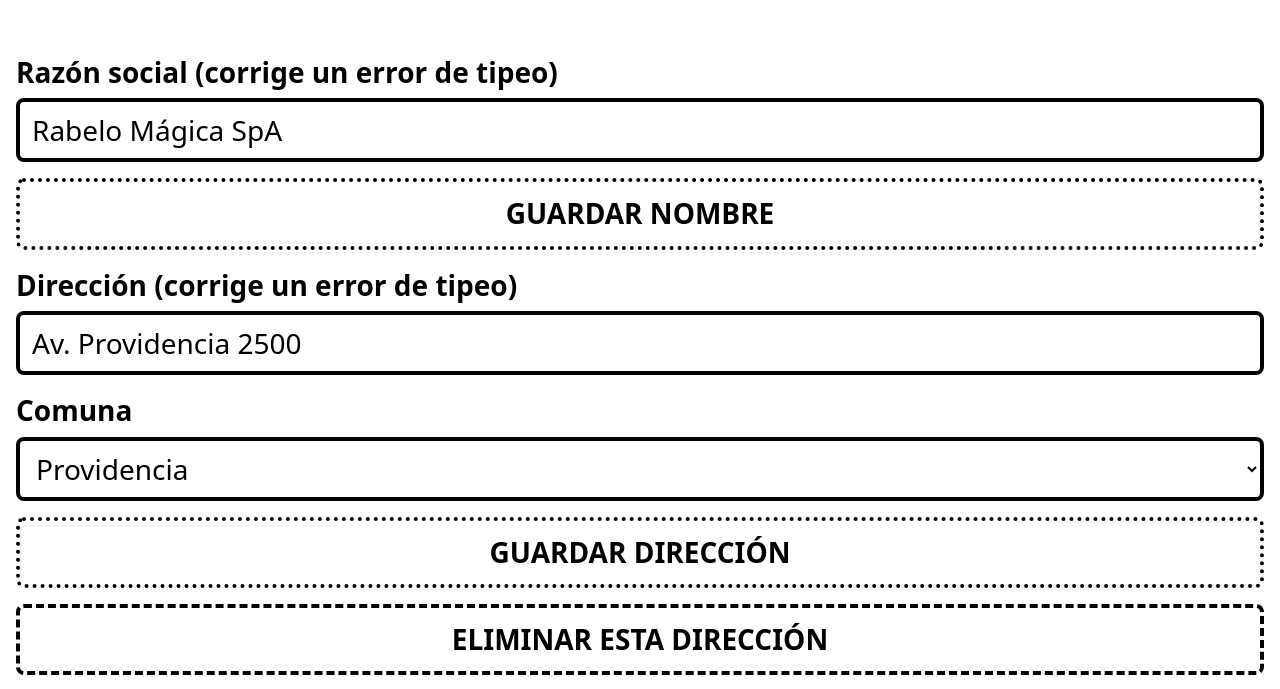
Test: detalle del local › chofer con permiso de editor › puede corregir la dirección y la comuna de la ficha
(page scrolled)
Expected: the button "GUARDAR DIRECCIÓN" is disabled, [16,517,1264,588]
Replace the text in the field labelled "Dirección (corrige un error de tipeo)" with "Av. Providencia 2550" at (640, 343), box [16,311,1264,375]
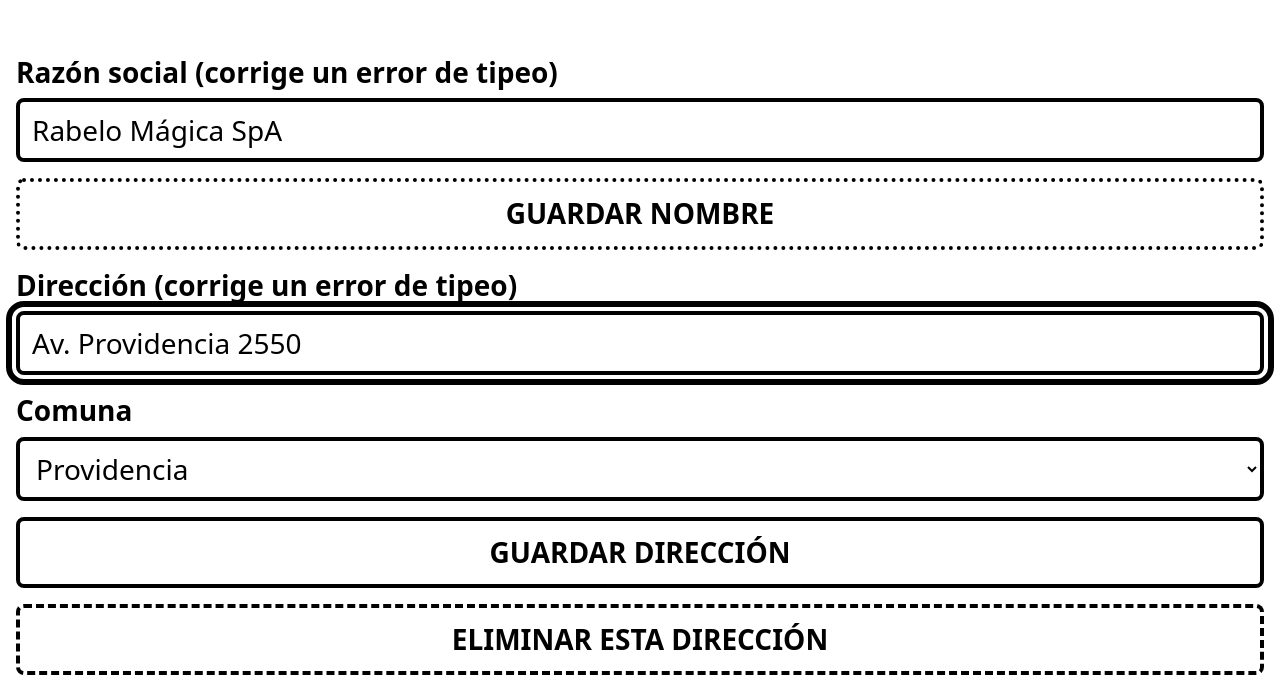
Select "Ñuñoa" in the dropdown labelled "Comuna" at (640, 469), box [16,437,1264,501]
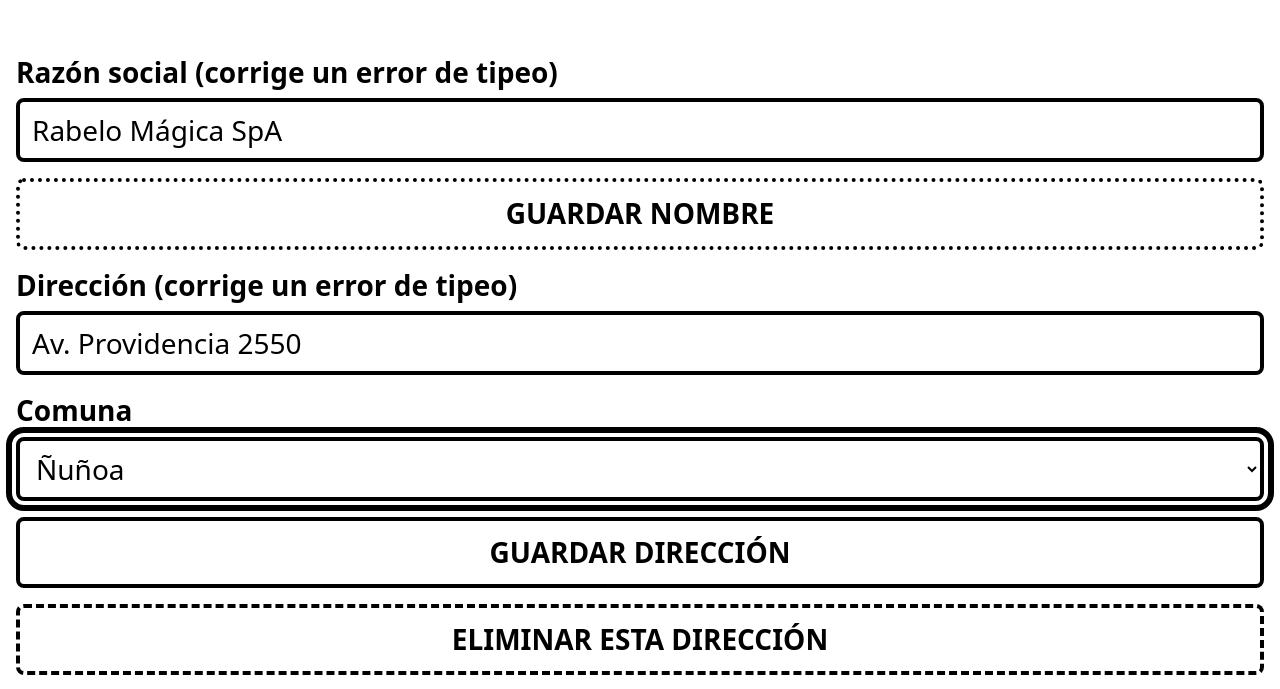
Click the button "GUARDAR DIRECCIÓN" at (640, 552), box [16,517,1264,588]
(page scrolled)
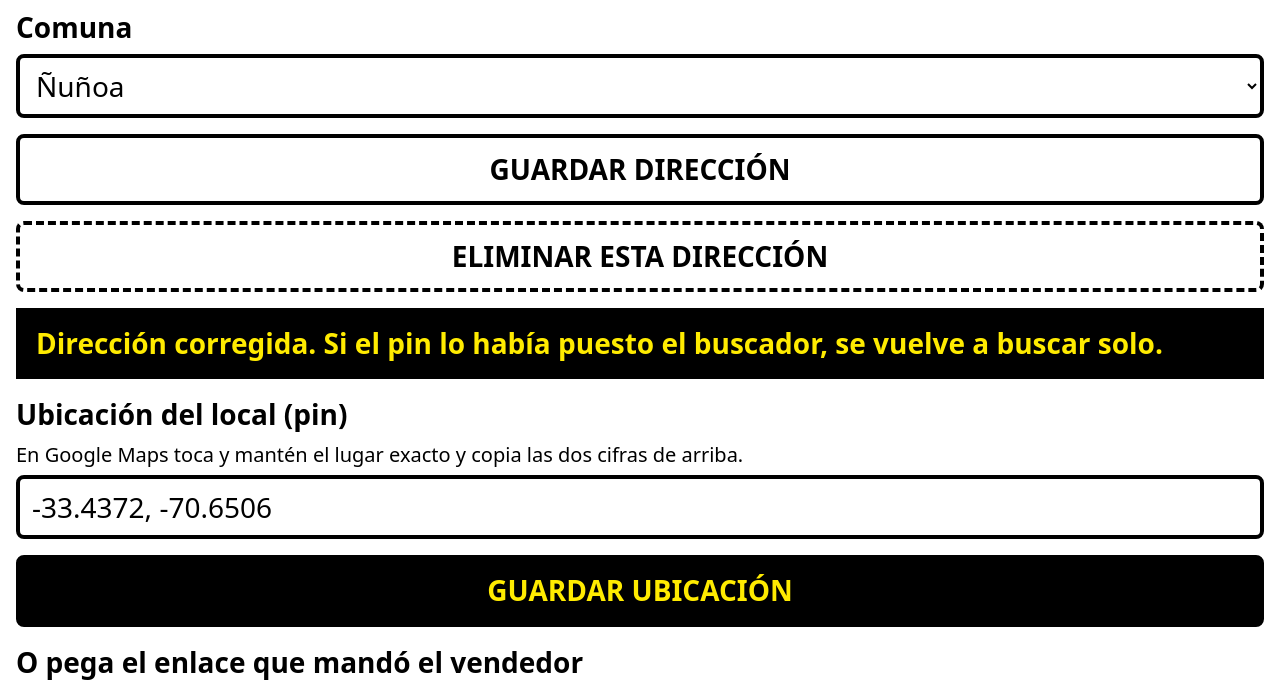
Expected: the text "Dirección corregida" is shown, [36,324,1163,362]
